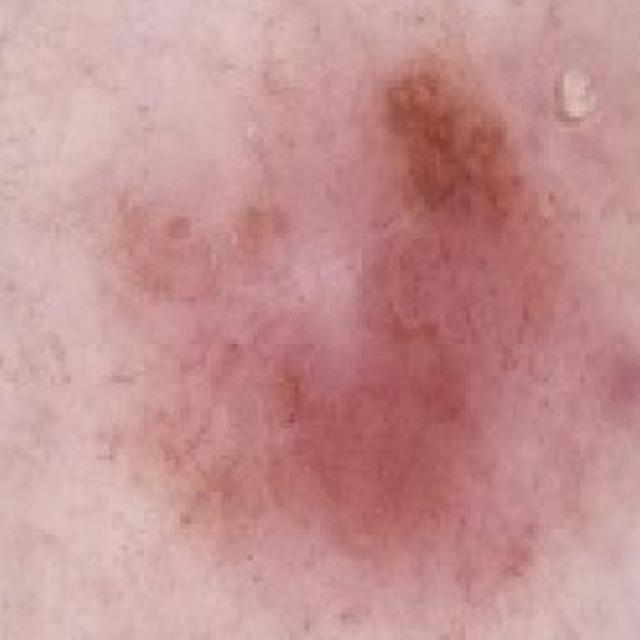DF: (63, 40, 640, 640)
